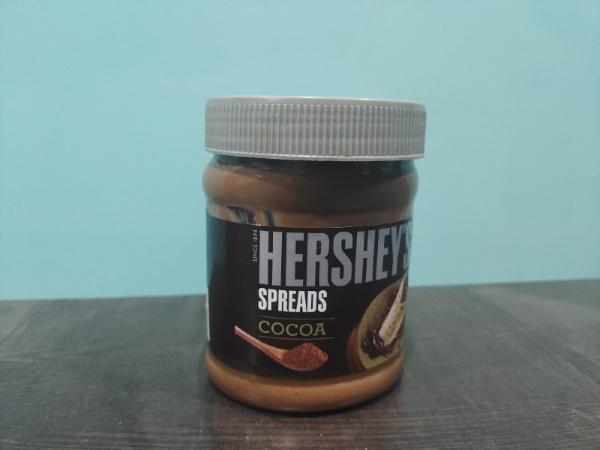Hershey-s: (180, 83, 434, 427)
